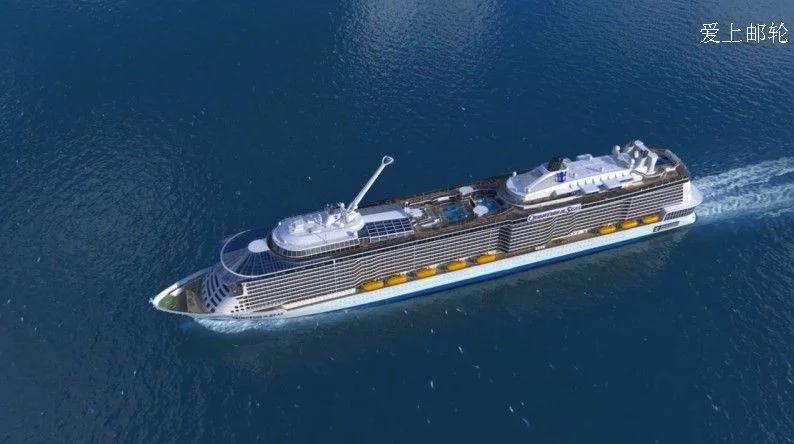youlun: (147, 133, 704, 331)
